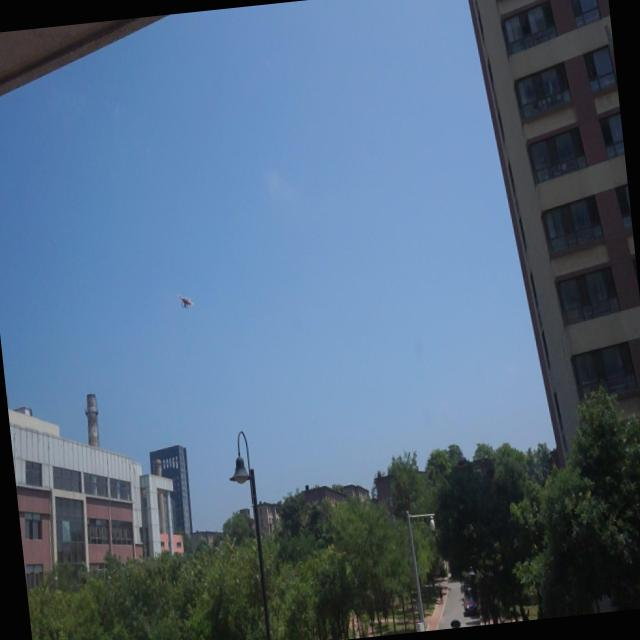drone: (177, 290, 195, 314)
